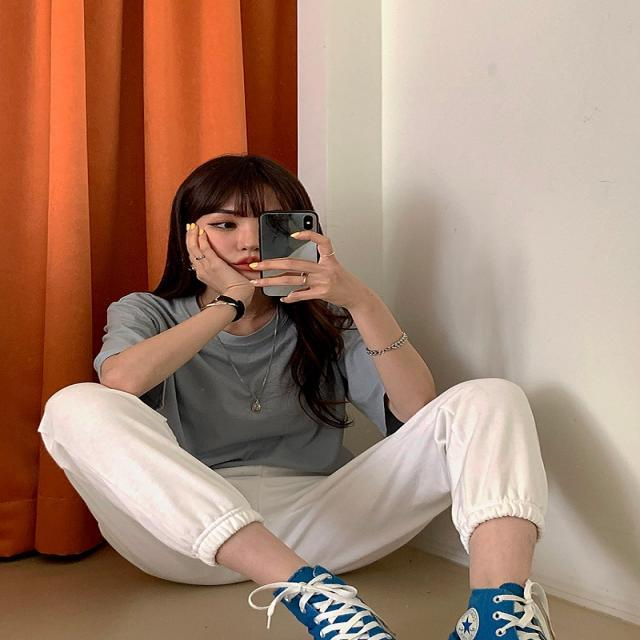phone: (258, 211, 320, 296)
